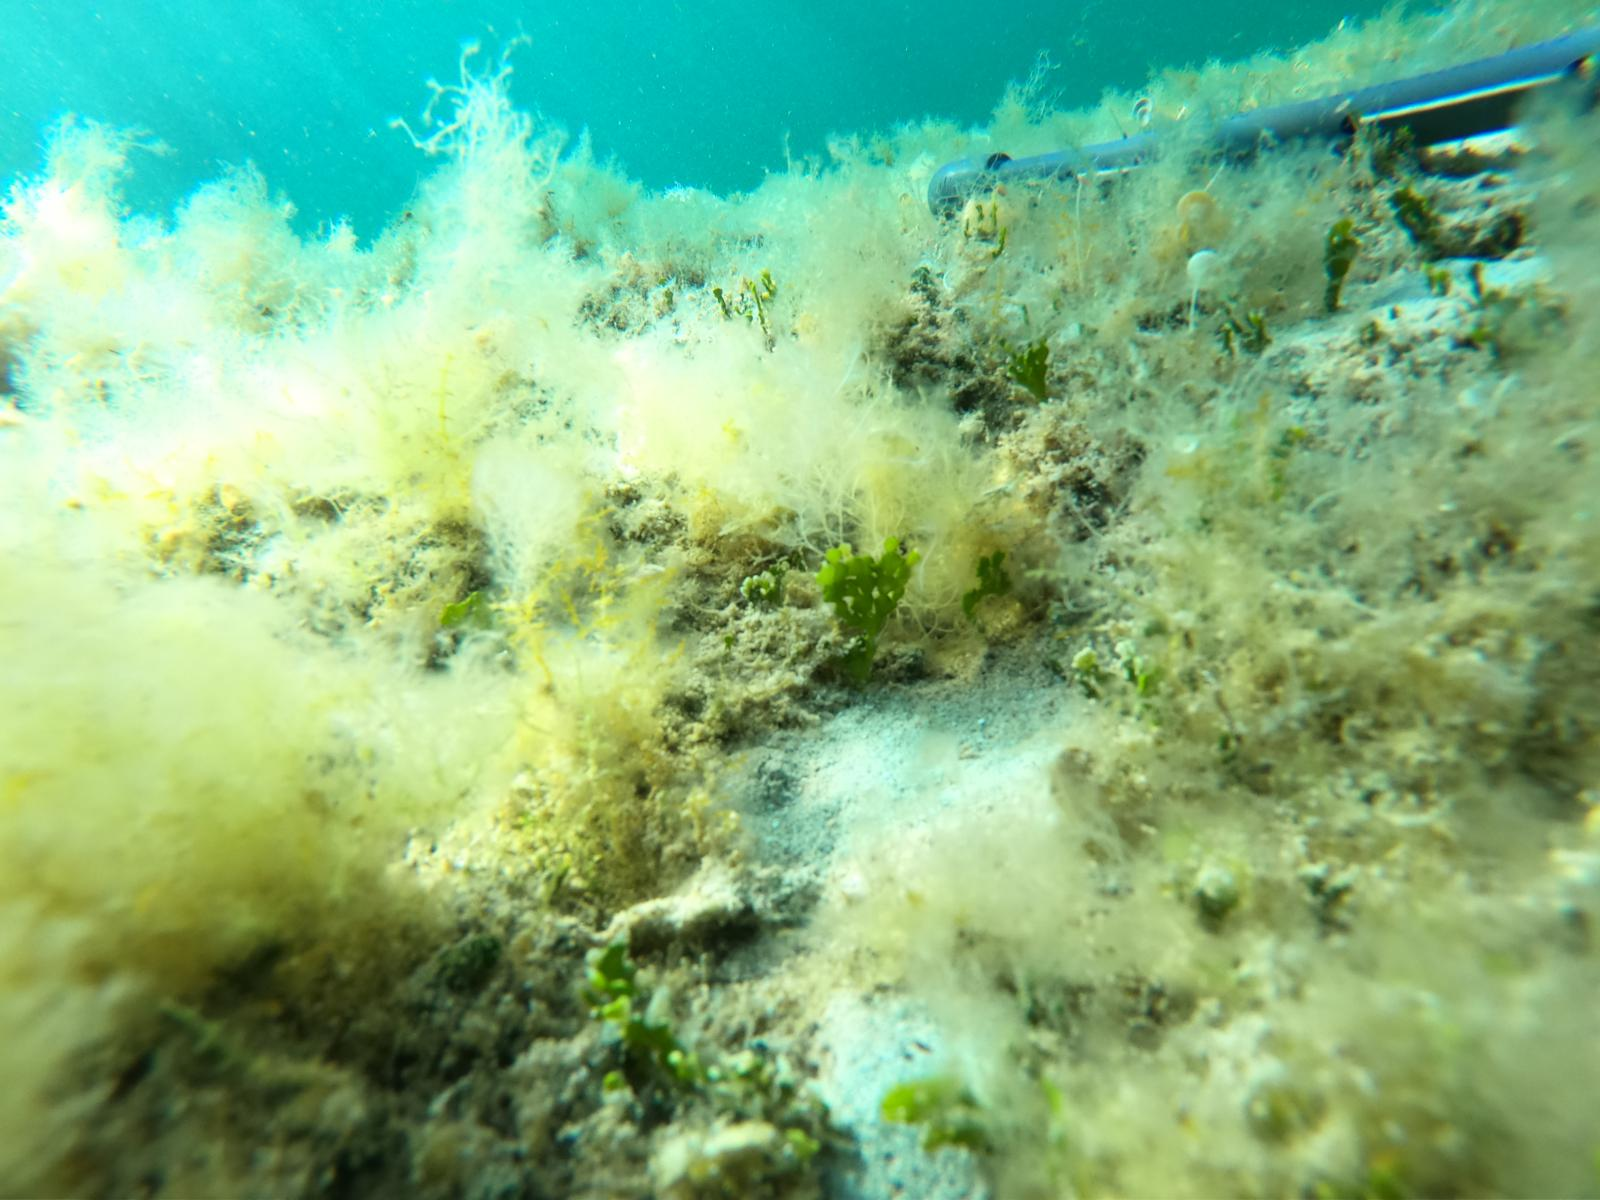halimeda: (592, 937, 703, 1103), (815, 538, 917, 648), (994, 334, 1065, 406), (1387, 187, 1437, 263), (1327, 218, 1353, 314)
